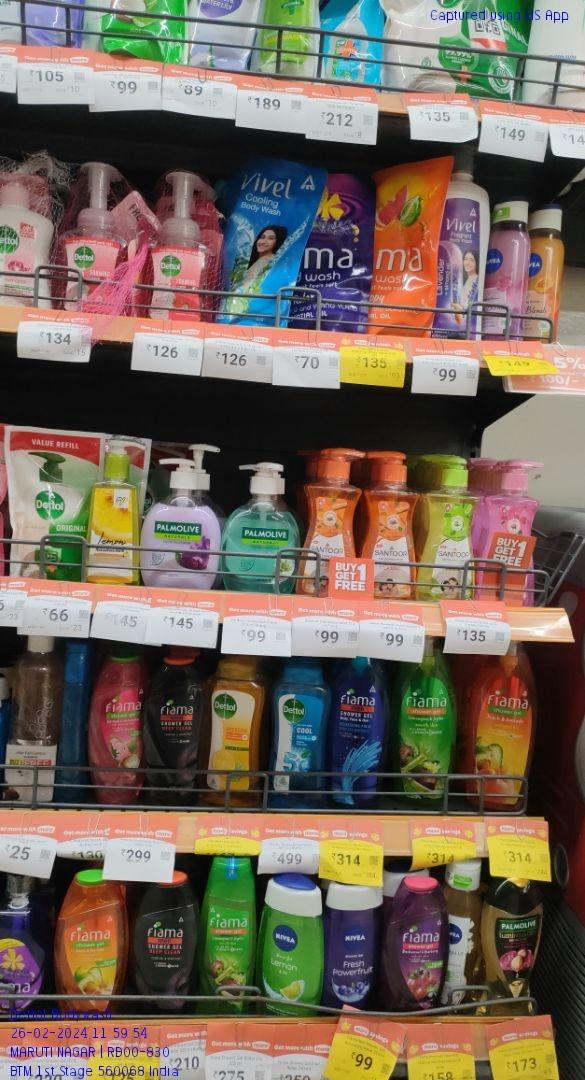Dettol_Bodywash_Cool: (268, 663, 328, 788)
Dettol_Bodywash_Refresh: (206, 659, 257, 781)
Fiama_Shower_Gel_Lemongrass_and_Jojoba_250ML: (205, 853, 254, 1000)
Fiama_Shower_Gel_Patchouli_and_Macadamia_250ML: (87, 654, 138, 787)
Fiama_Shower_Gel_Peach_and_Avocado_250ML: (52, 869, 128, 1007)
Nivea_Shower_Gel_Fresh_Powerfruit_250ML: (325, 879, 387, 1009)
Nivea_Shower_Gel_Lemon_and_Oil_250ML: (257, 875, 321, 1015)
Palmolive_Luminous_Oils_Invigorating_Macadamia_Oil_With_Peony_250ML: (482, 878, 541, 999)
